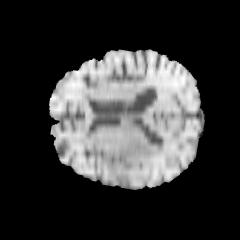glioma: (108, 141, 158, 179)
